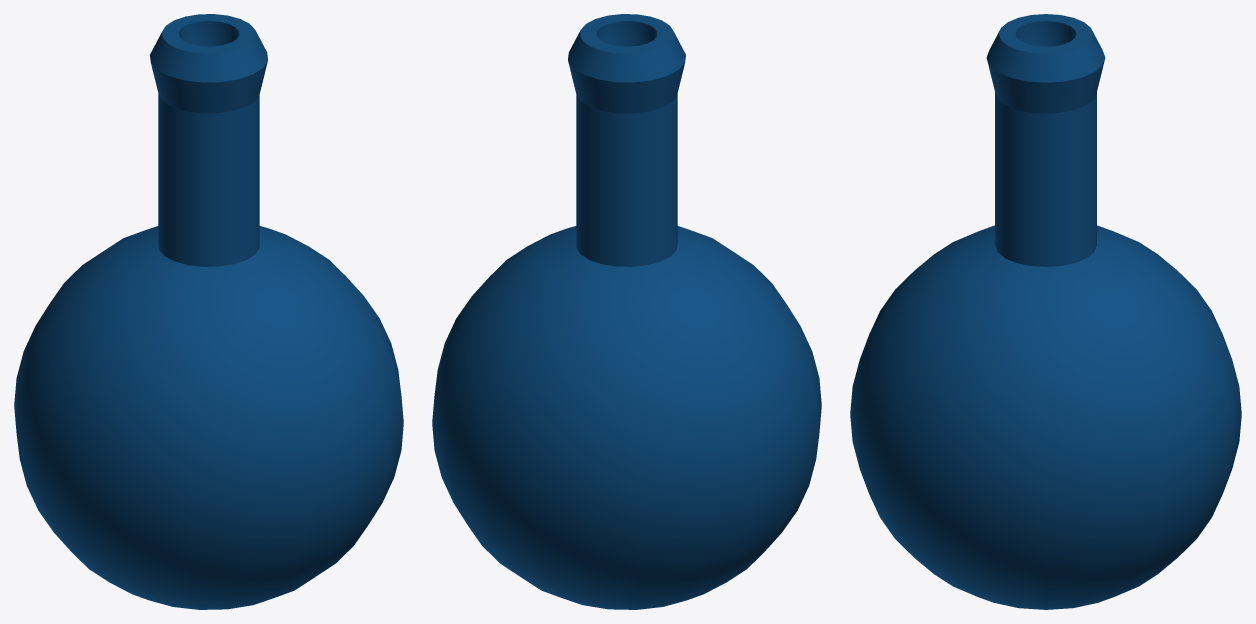
Rendered from SM_Prop_PotionBottle.fbx.
The picture shows the model from 3 angles, left to right: view 1: azimuth 30°, elevation 25°; view 2: azimuth 150°, elevation 25°; view 3: azimuth 270°, elevation 25°; orthographic projection.
Visible parts, largest first — view 1: geo_PotionBottle; view 2: geo_PotionBottle; view 3: geo_PotionBottle.
Boxes of the visible parts, box(x1,y1,x2,y2) form: geo_PotionBottle: box(14, 14, 403, 609); geo_PotionBottle: box(432, 14, 821, 609); geo_PotionBottle: box(850, 14, 1241, 609).
Bounding box in the file's own units: 8.63 × 13.56 × 8.63.
